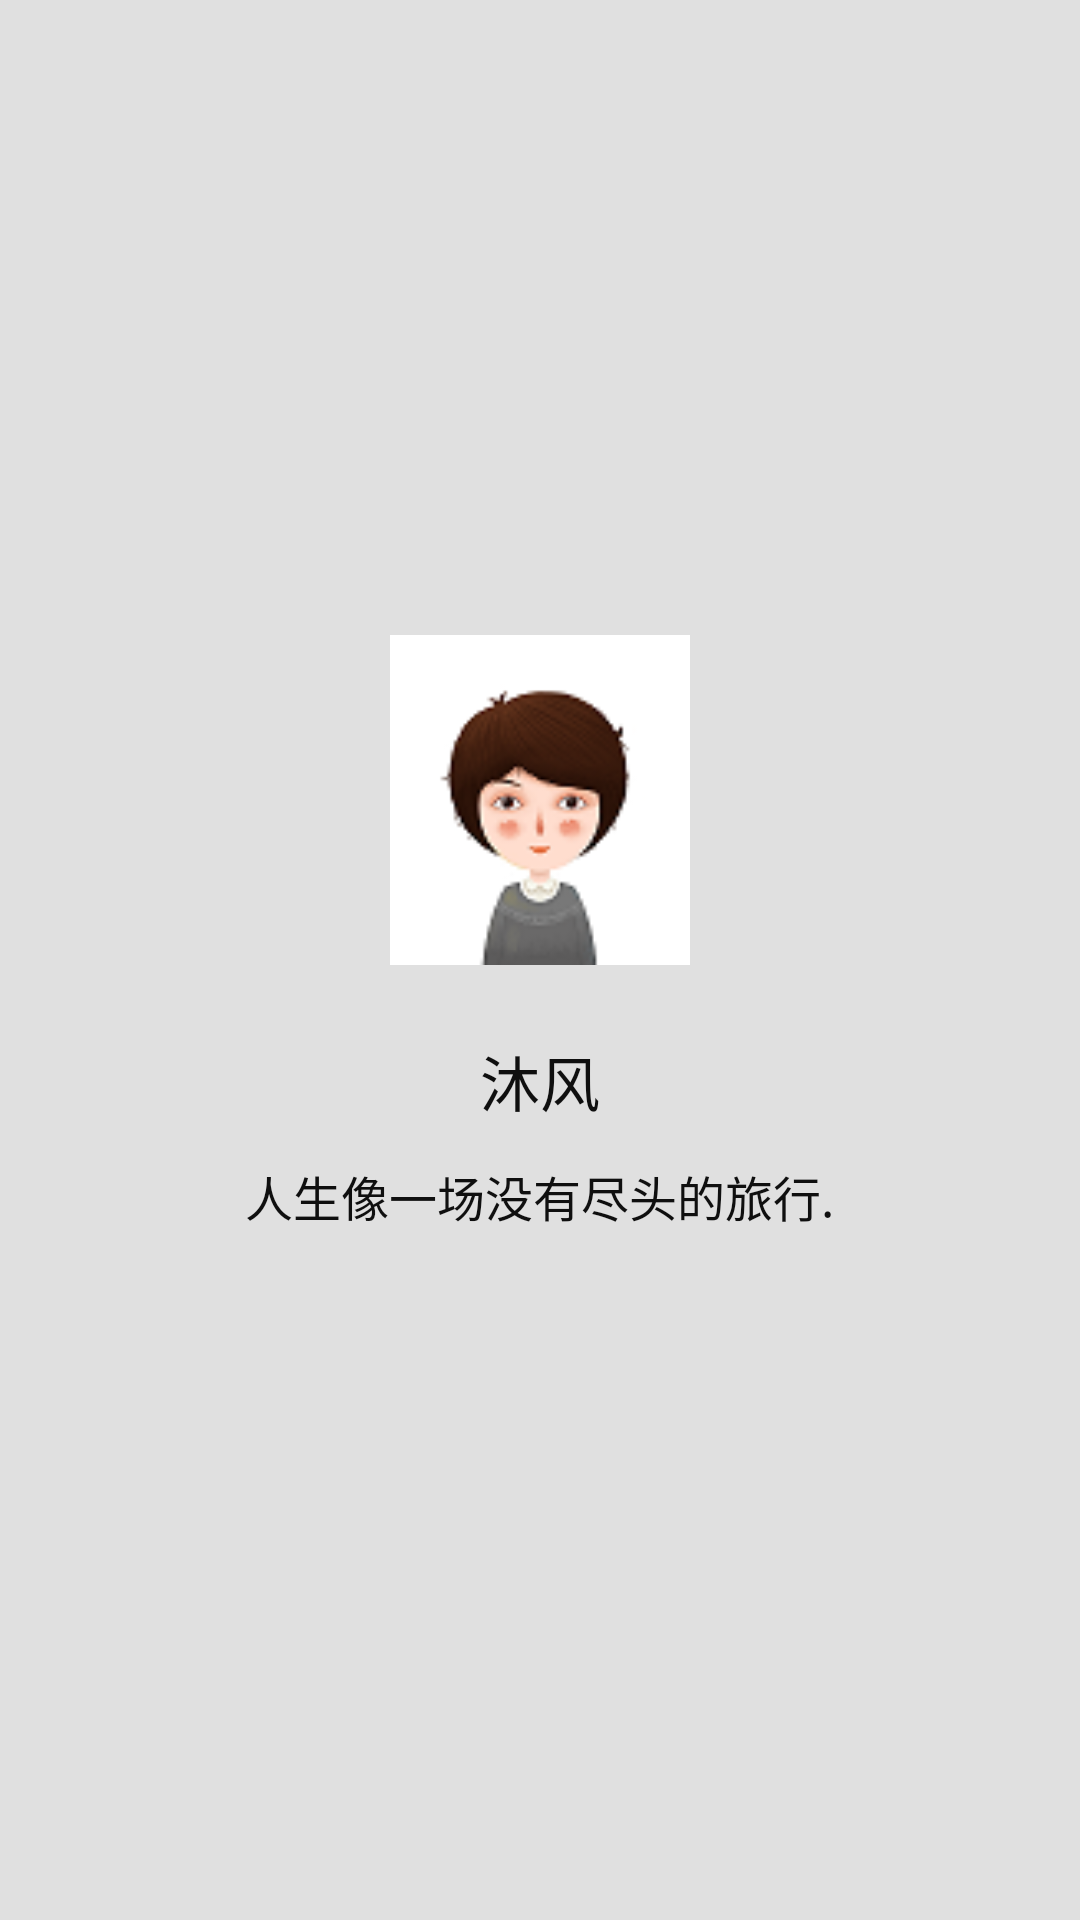

Where to tap for icons on this 1080*1920 app screen, as point (x, y):
user: point (540, 800)
